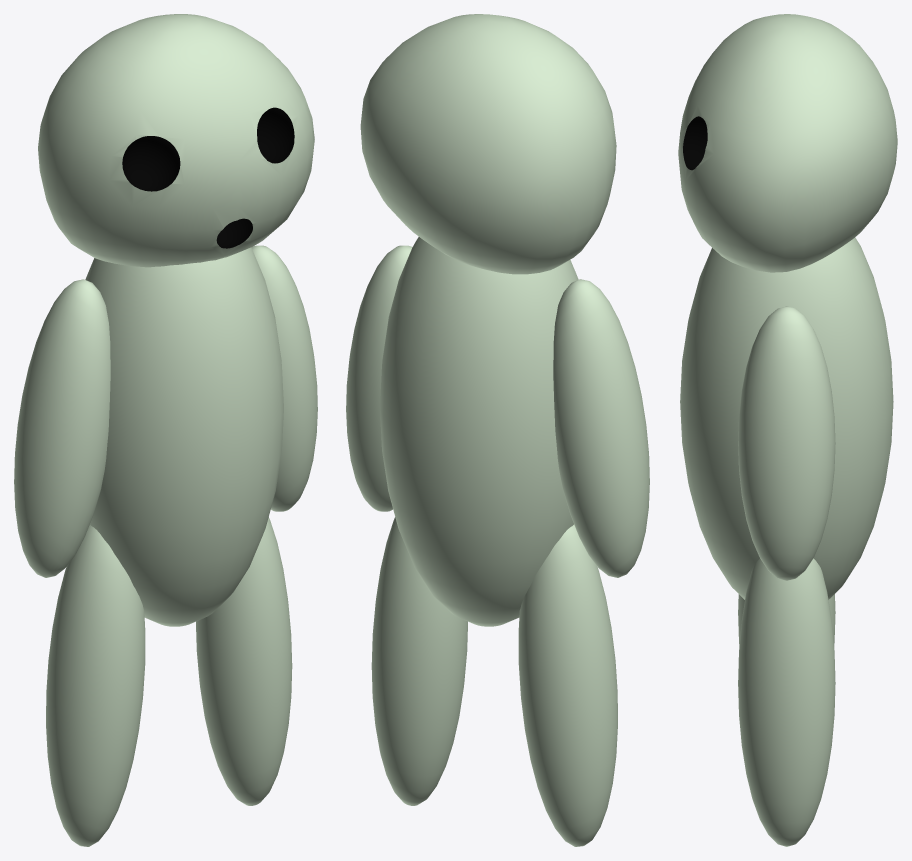
File: kodama_01.glb
3 views of the same model, side by side, from view 1: azimuth 30°, elevation 25°; view 2: azimuth 150°, elevation 25°; view 3: azimuth 270°, elevation 25° (orthographic). The views are drawn at different scales.
Visible parts, largest first — view 1: Body, Head, Leg 2, Arm 2, Leg 1, Arm 1; view 2: Body, Head, Leg 2, Arm 2, Leg 1, Arm 1; view 3: Head, Body, Leg 1, Arm 1.
Boxes of the visible parts, x1=… form: Body: x1=85, y1=247, x2=283, y2=626; Head: x1=38, y1=14, x2=314, y2=267; Leg 2: x1=46, y1=525, x2=145, y2=846; Arm 2: x1=14, y1=279, x2=110, y2=577; Leg 1: x1=196, y1=517, x2=292, y2=805; Arm 1: x1=251, y1=245, x2=317, y2=511; Body: x1=380, y1=237, x2=578, y2=626; Head: x1=360, y1=14, x2=616, y2=274; Leg 2: x1=518, y1=524, x2=617, y2=846; Arm 2: x1=553, y1=279, x2=649, y2=577; Leg 1: x1=371, y1=517, x2=467, y2=805; Arm 1: x1=346, y1=245, x2=412, y2=511; Head: x1=678, y1=14, x2=897, y2=272; Body: x1=680, y1=237, x2=893, y2=599; Leg 1: x1=738, y1=558, x2=835, y2=846; Arm 1: x1=738, y1=306, x2=835, y2=580.
Bounding box in the file's own units: 1.38 × 3.66 × 0.9289.
